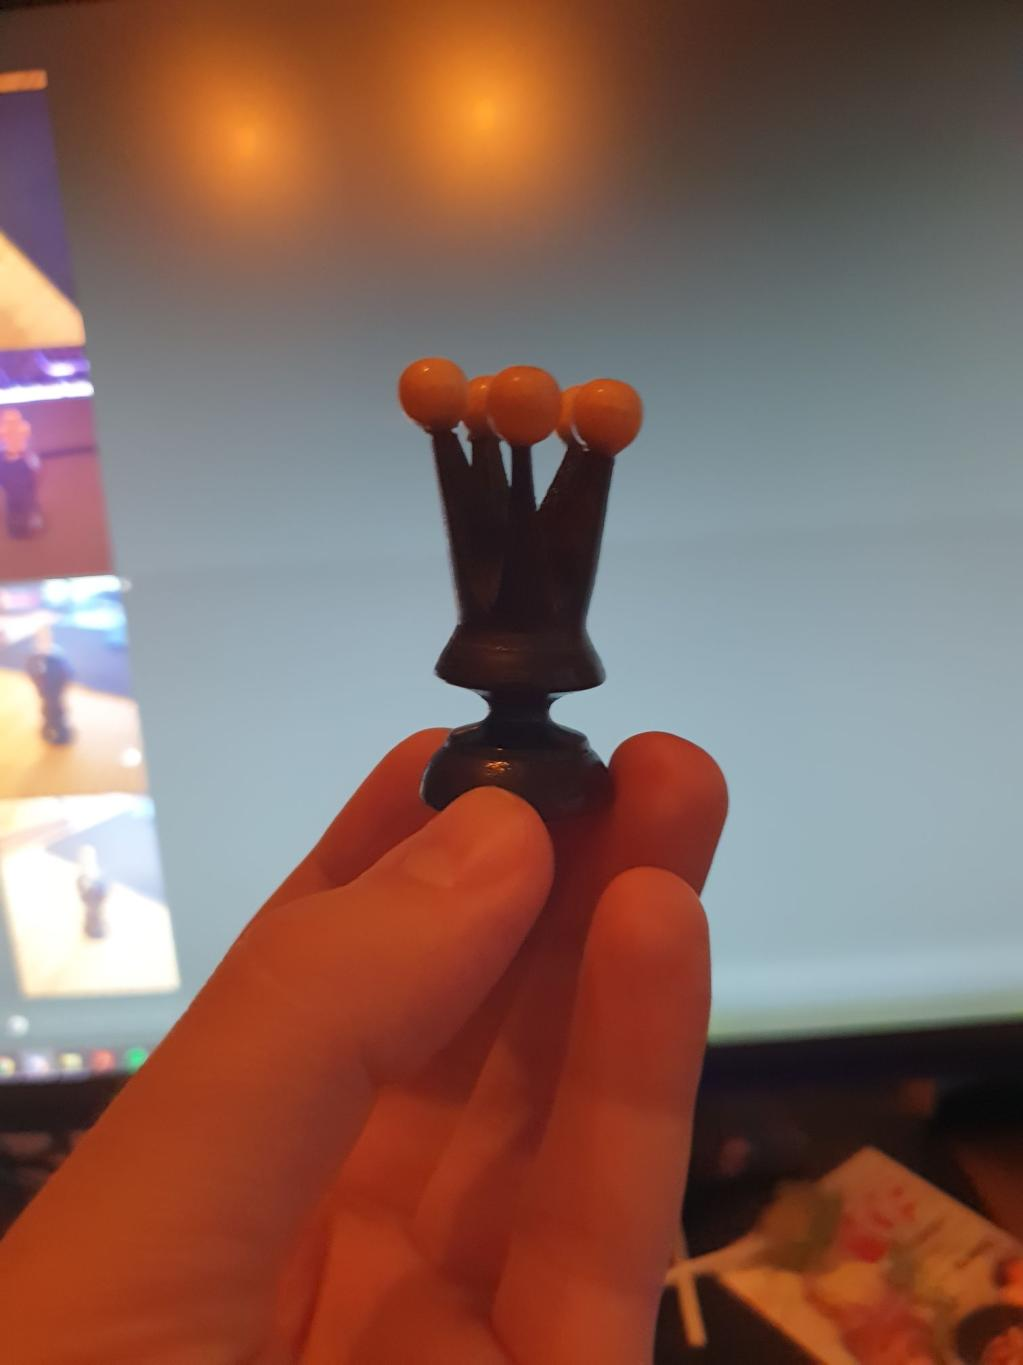bqueen: (398, 356, 645, 816)
